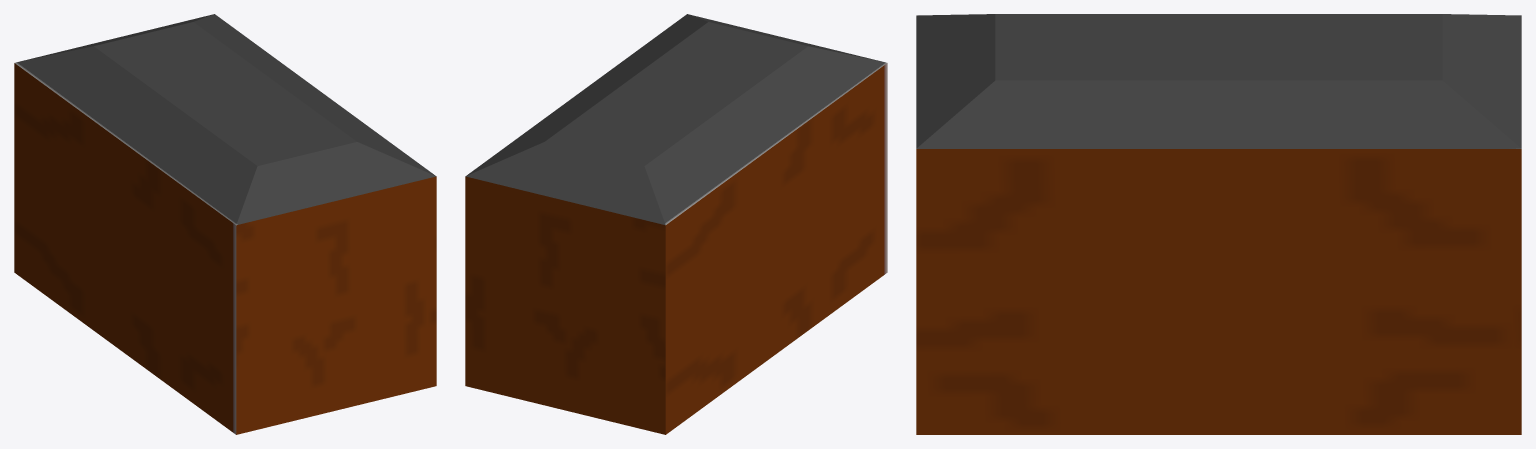
File: chest.obj
The picture shows the model from 3 angles, left to right: view 1: azimuth 30°, elevation 25°; view 2: azimuth 150°, elevation 25°; view 3: azimuth 270°, elevation 25°; orthographic projection. The views are drawn at different scales.
Visible parts, largest first — view 1: Cube; view 2: Cube; view 3: Cube.
Boxes of the visible parts, bbox=[...] form: Cube: bbox=[14, 14, 436, 434]; Cube: bbox=[465, 14, 887, 434]; Cube: bbox=[916, 14, 1521, 434].
Size of the model in its own units: 2 by 2.24 by 3.84.
1 material, 1 textured.
